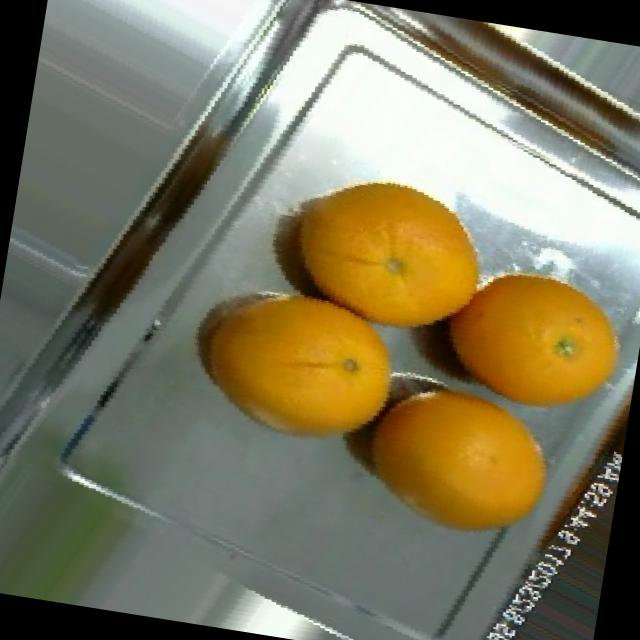Fruit: (299, 340, 545, 568), (404, 230, 640, 443), (152, 243, 363, 460)
